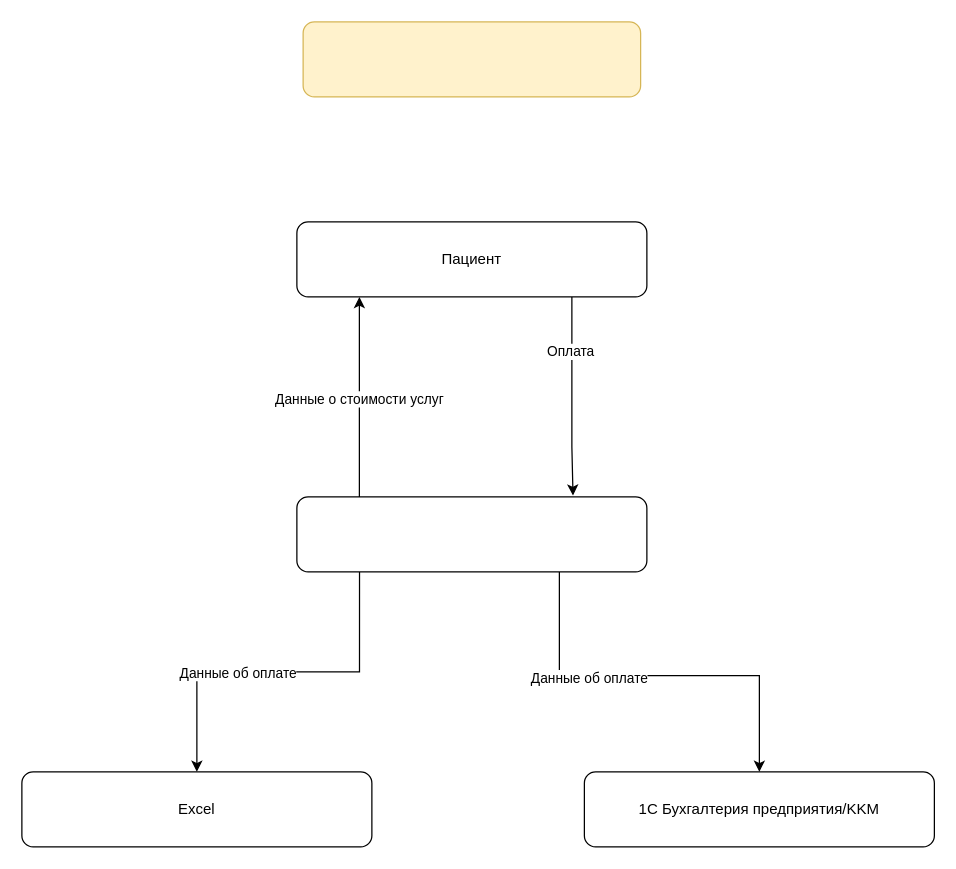
This 956x869 diagram has some shape labels left out. Each missing label, with the box of its shape:
Кассир: (296, 496, 647, 572)
Оплата услуг: (302, 21, 641, 97)
